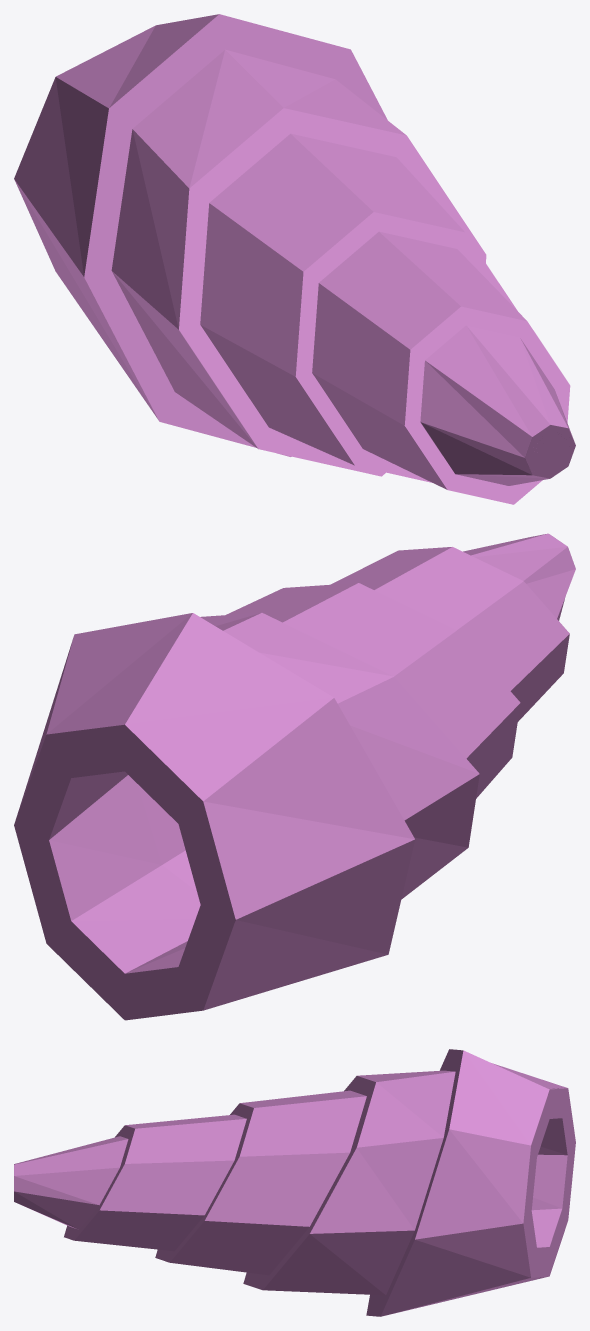
Rendered from Seashell 3 PINK.fbx.
The picture shows the model from 3 angles, top to bottom: view 1: azimuth 30°, elevation 25°; view 2: azimuth 150°, elevation 25°; view 3: azimuth 270°, elevation 25°; orthographic projection. The views are drawn at different scales.
Visible parts, largest first — view 1: Cylinder002; view 2: Cylinder002; view 3: Cylinder002.
Boxes of the visible parts, bbox=[...] form: Cylinder002: bbox=[14, 14, 575, 504]; Cylinder002: bbox=[14, 533, 575, 1020]; Cylinder002: bbox=[14, 1049, 575, 1316].
Size of the model in its own units: 11.64 by 12.7 by 24.39.
1 material, 1 textured.
